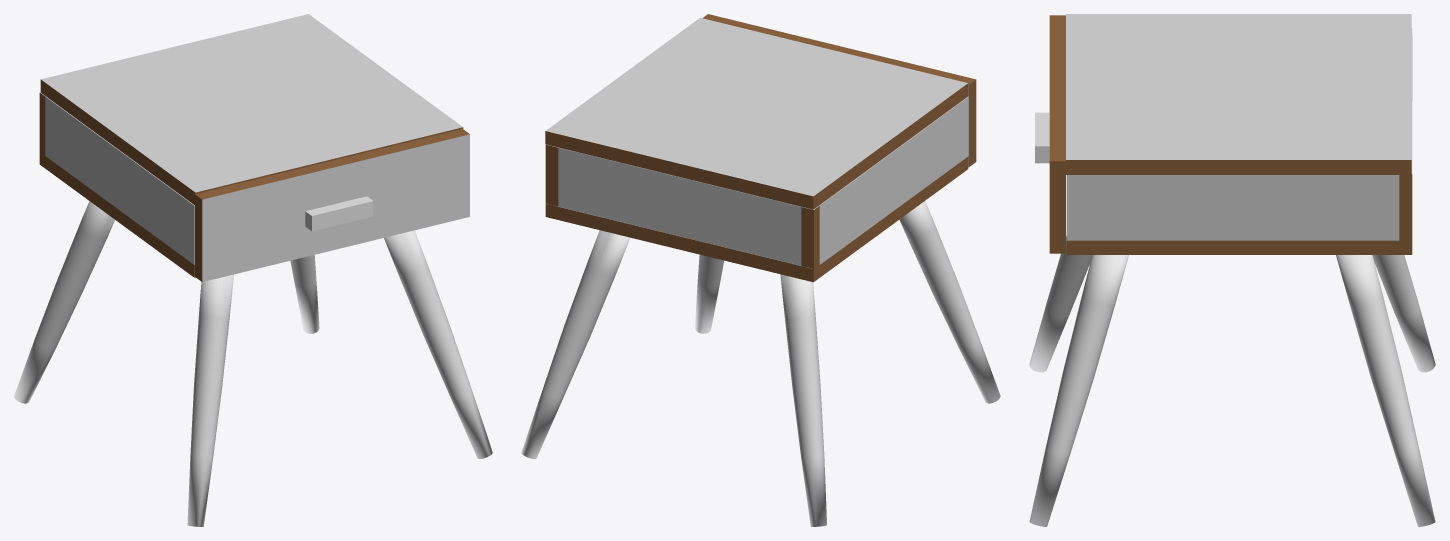
Rendered from bedside_table_tier2.fbx.
3 renders of one model, left to right at view 1: azimuth 30°, elevation 25°; view 2: azimuth 150°, elevation 25°; view 3: azimuth 270°, elevation 25°, orthographic. The views are drawn at different scales.
Visible parts, largest first — view 1: Cube.001; view 2: Cube.001; view 3: Cube.001.
Part boxes in pixels (box(x1,y1,x2,y2)): Cube.001: box(14, 14, 492, 526); Cube.001: box(521, 14, 1000, 526); Cube.001: box(1029, 14, 1435, 526).
Bounding box in the file's own units: 84.46 × 86.2 × 87.65.
